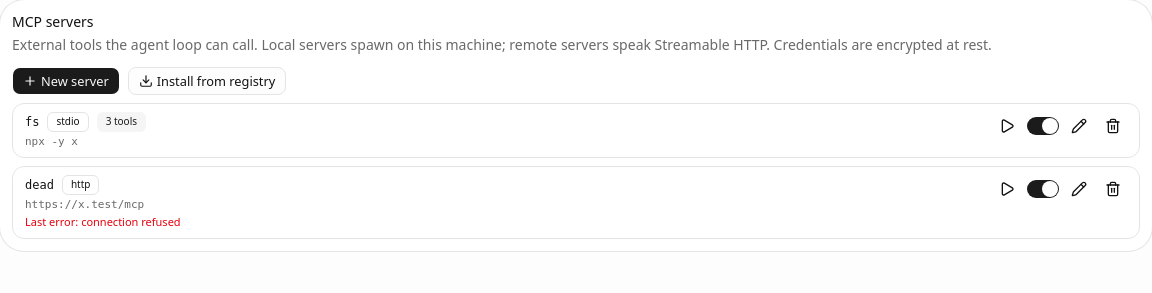
Test: tests a server and reports the tools
Click the button named "Test" in the row of "3 tools" at (1007, 126), box [993,112,1021,140]
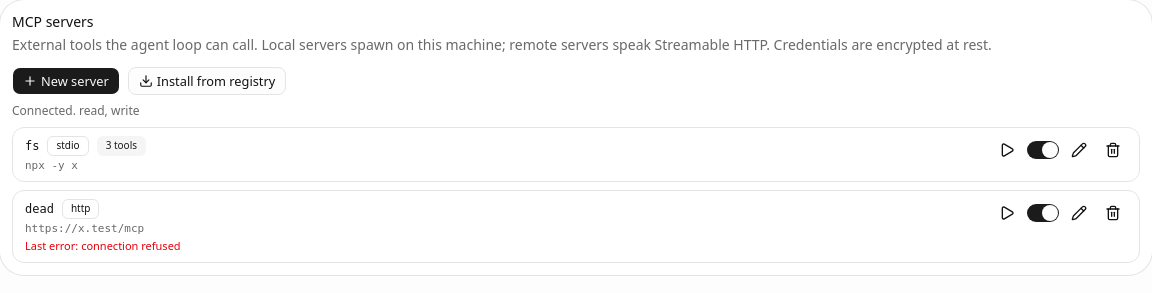
Now the text "Connected." is shown, box [12,102,140,119]
Now the text "read" is shown, box [12,102,140,119]
